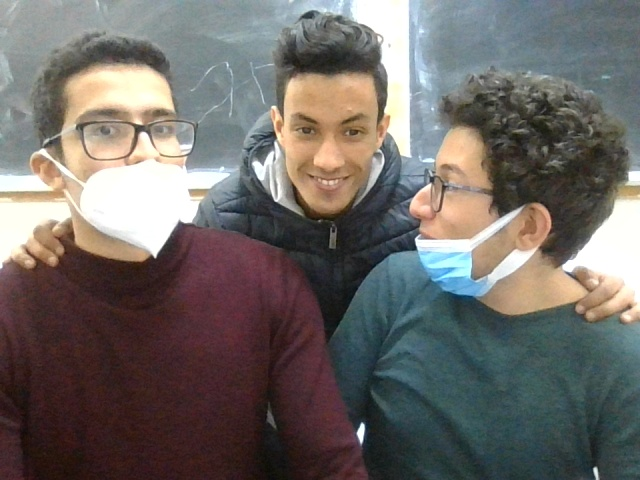mask_weared_incorrect: (405, 65, 590, 303), (38, 45, 219, 261)
without_mask: (265, 12, 390, 208)
